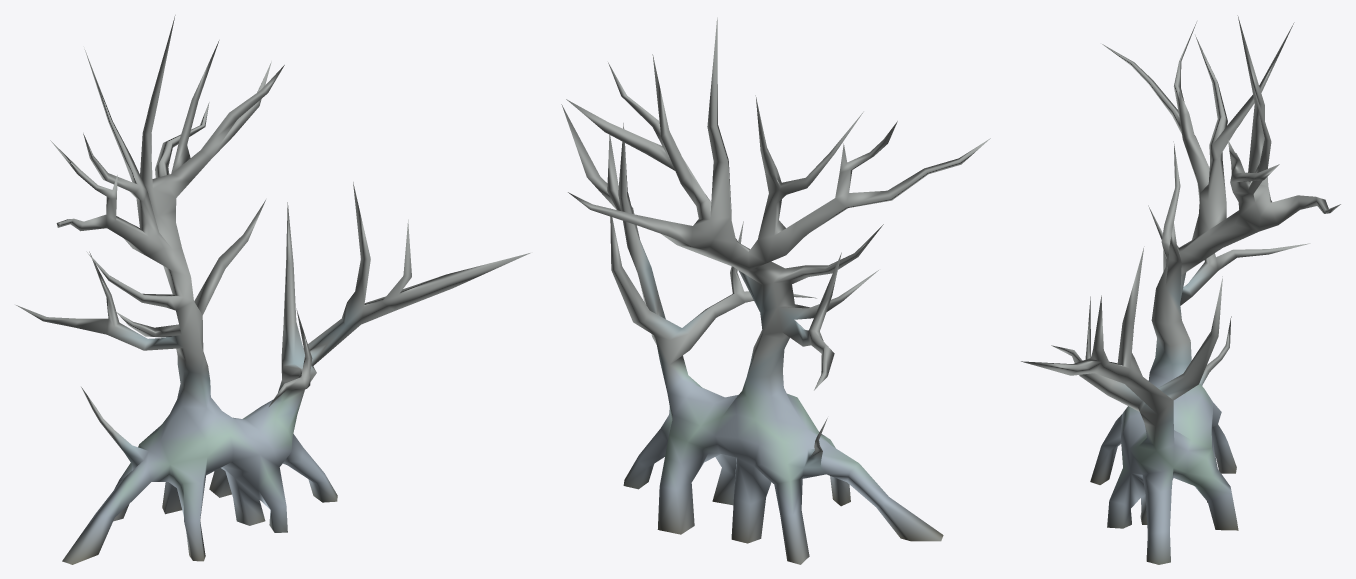
3 renders of one model, left to right at view 1: azimuth 30°, elevation 25°; view 2: azimuth 150°, elevation 25°; view 3: azimuth 270°, elevation 25°, orthographic. The views are drawn at different scales.
Parts seen in each view (by area): view 1: G:\FFXIV-MapTools\exports\l1f1\bg\ffxiv\lak_l1\fld\l1f1\bgpa; view 2: G:\FFXIV-MapTools\exports\l1f1\bg\ffxiv\lak_l1\fld\l1f1\bgpa; view 3: G:\FFXIV-MapTools\exports\l1f1\bg\ffxiv\lak_l1\fld\l1f1\bgpa.
Part boxes in pixels (x1,y1,x2,y2): G:\FFXIV-MapTools\exports\l1f1\bg\ffxiv\lak_l1\fld\l1f1\bgpa: [16, 15, 530, 564]; G:\FFXIV-MapTools\exports\l1f1\bg\ffxiv\lak_l1\fld\l1f1\bgpa: [561, 17, 990, 564]; G:\FFXIV-MapTools\exports\l1f1\bg\ffxiv\lak_l1\fld\l1f1\bgpa: [1021, 15, 1340, 564].
Bounding box in the file's own units: 8.27 × 8.85 × 5.26.
